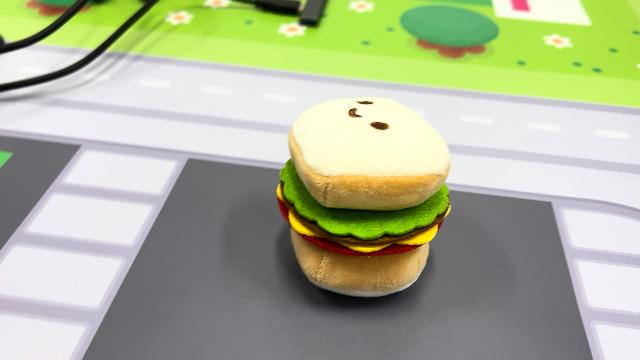sandwich: (274, 93, 454, 299)
